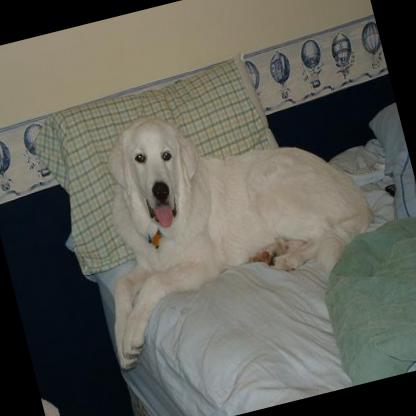Great_Pyrenees: (64, 70, 392, 370)
